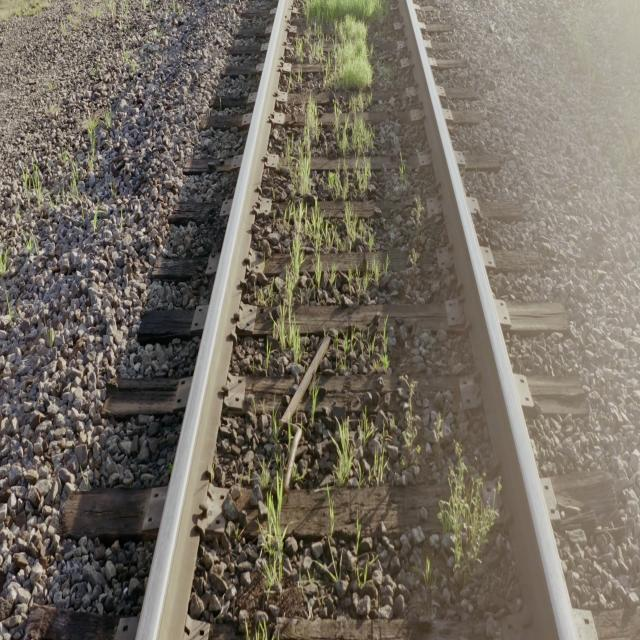Plant: (295, 0, 386, 249), (271, 96, 338, 360), (440, 462, 495, 584), (264, 427, 301, 587), (330, 398, 389, 487), (342, 264, 388, 302), (366, 320, 390, 373)
